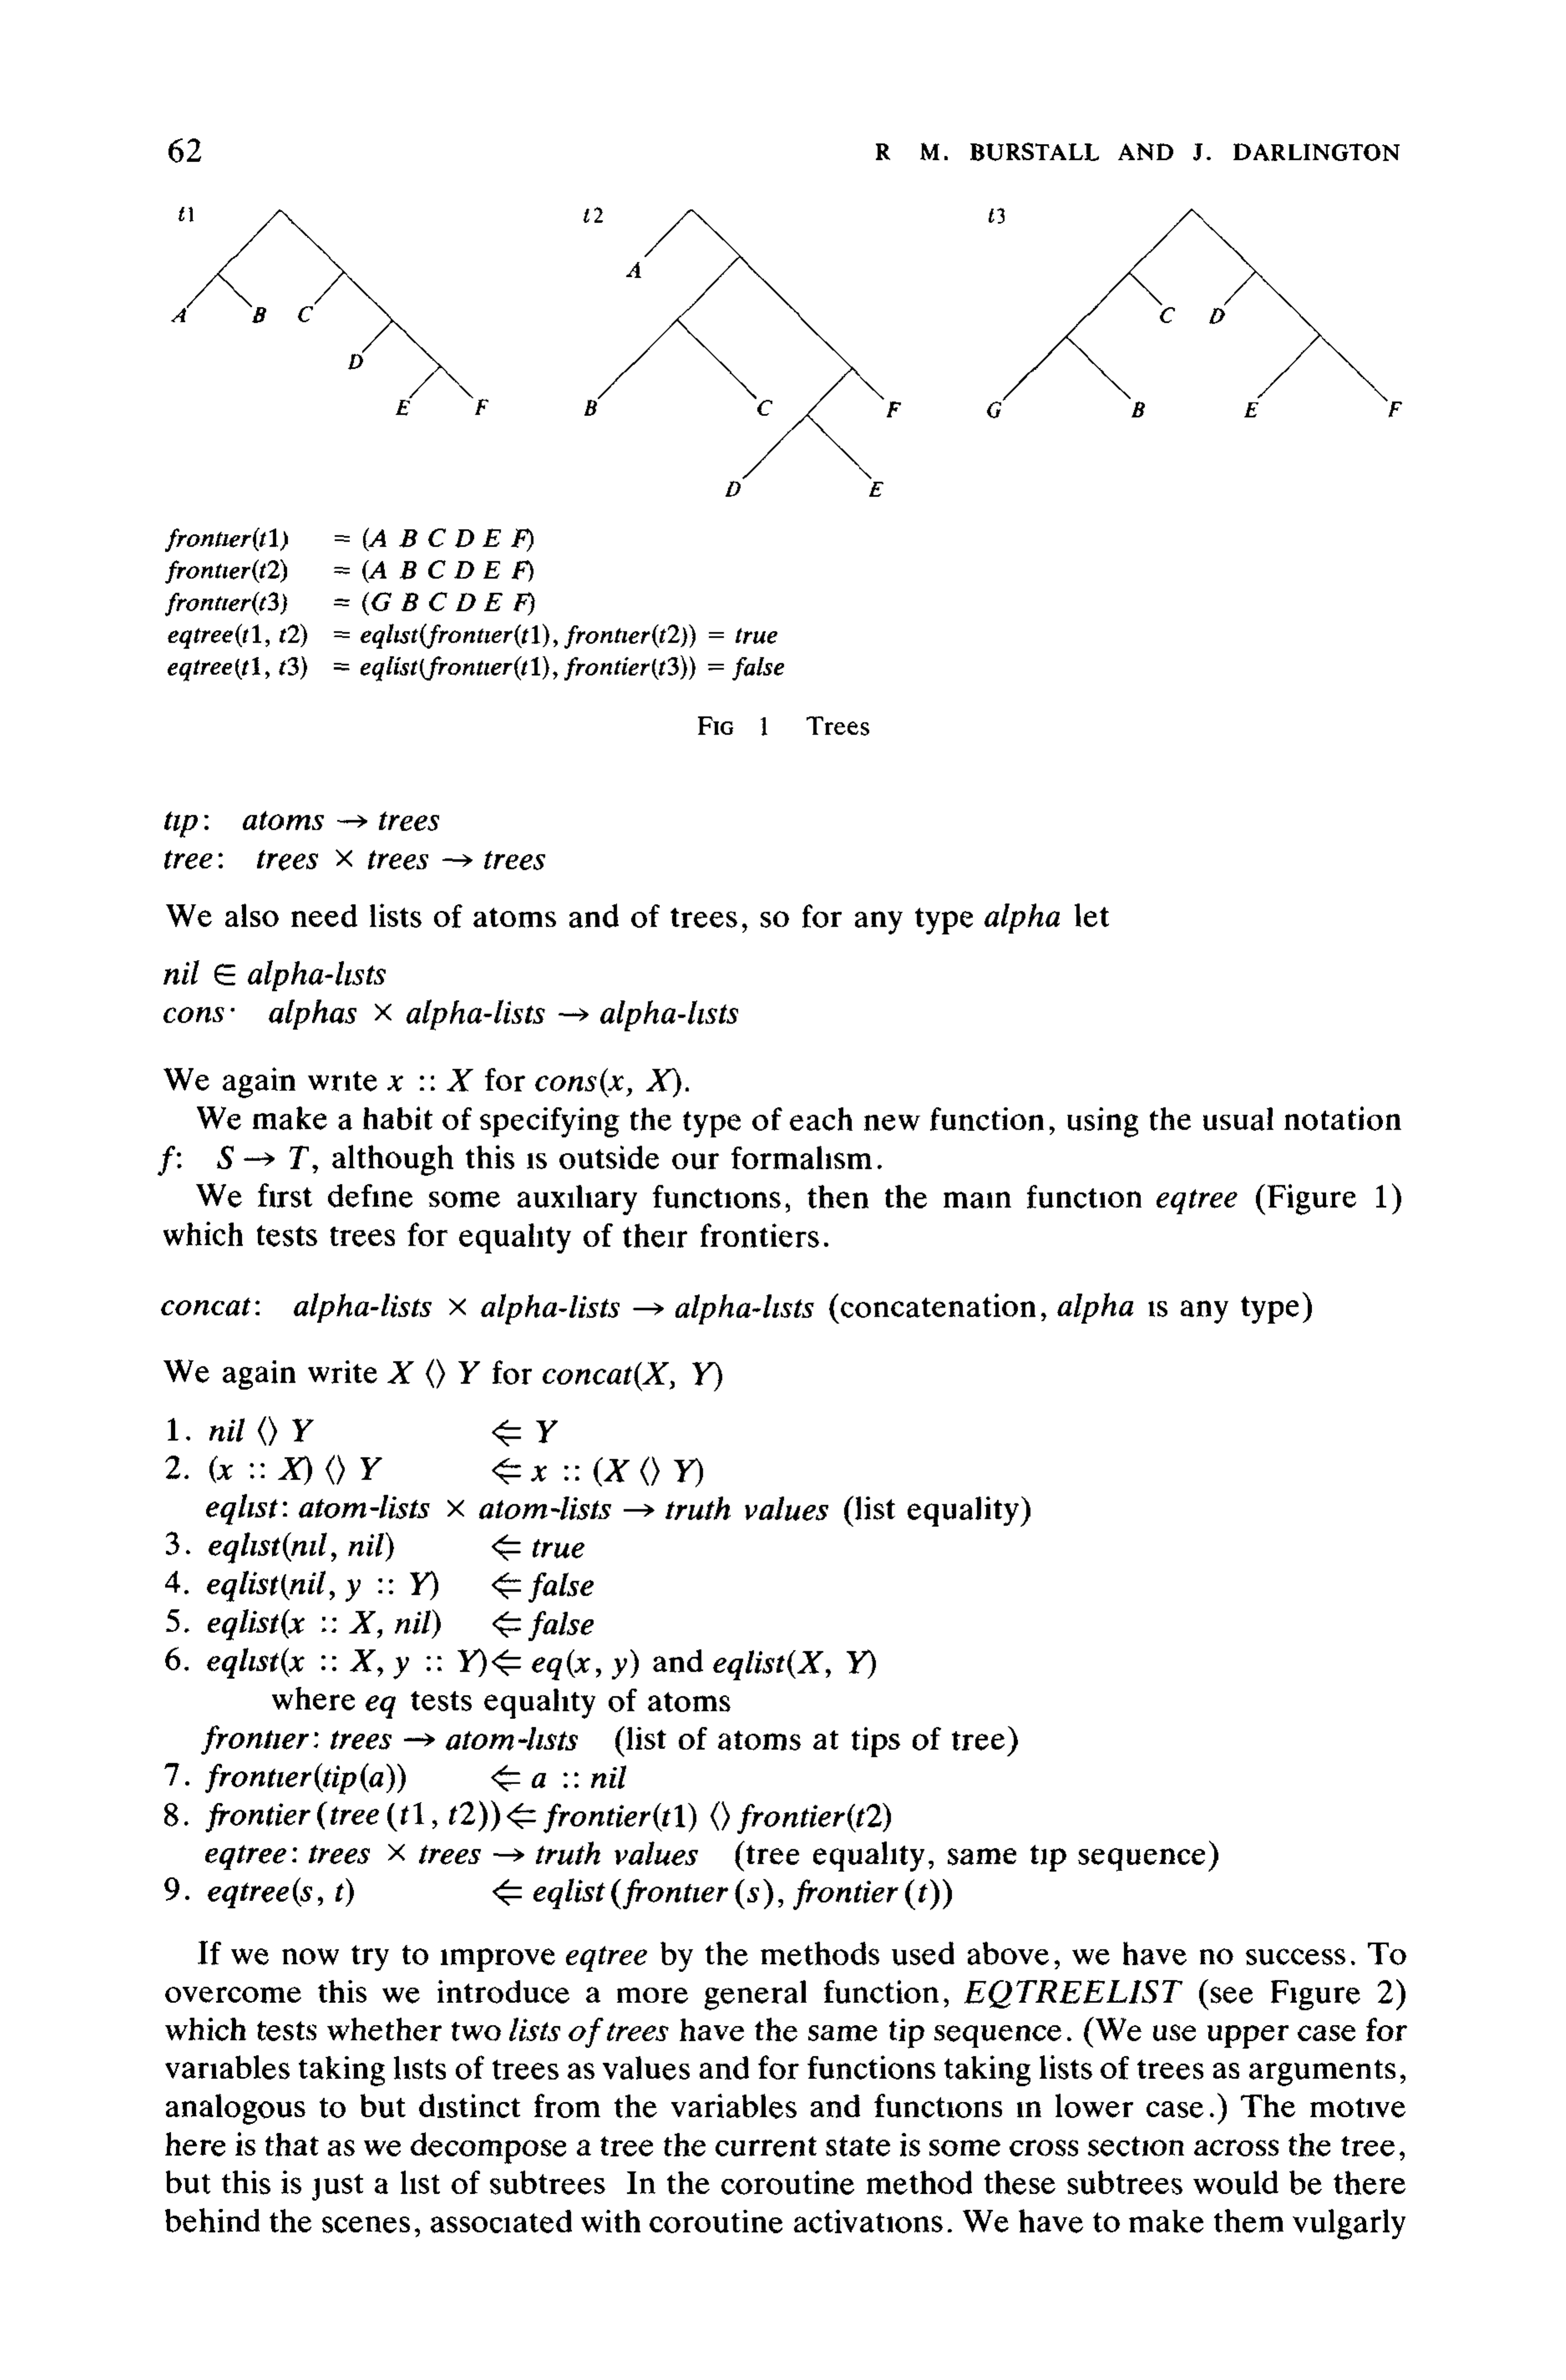maths: (206, 1494, 1031, 1527), (208, 1877, 953, 1910), (206, 1646, 876, 1681), (206, 1800, 891, 1833), (161, 1291, 814, 1325), (164, 1000, 738, 1031), (168, 655, 785, 681), (168, 624, 778, 650), (206, 1840, 697, 1871), (206, 1763, 626, 1795), (208, 1531, 584, 1564), (206, 1571, 594, 1602), (208, 1609, 594, 1641), (201, 1725, 579, 1756), (210, 1417, 558, 1447), (164, 849, 545, 870), (164, 811, 439, 839), (491, 1456, 703, 1487), (164, 961, 386, 991), (965, 1980, 1181, 2008), (544, 1360, 722, 1391), (210, 1454, 383, 1485), (334, 592, 535, 615), (535, 1068, 682, 1097), (364, 528, 533, 552), (362, 561, 533, 584), (166, 528, 288, 552), (166, 559, 287, 584), (166, 592, 287, 617), (388, 1360, 481, 1389), (1057, 1293, 1133, 1323), (566, 1945, 647, 1971), (217, 1146, 309, 1169), (1157, 1190, 1237, 1214), (606, 2022, 669, 2041), (365, 1695, 395, 1719), (447, 1069, 474, 1092), (157, 1146, 175, 1176), (388, 1076, 404, 1092), (334, 566, 350, 575), (336, 535, 350, 542)
